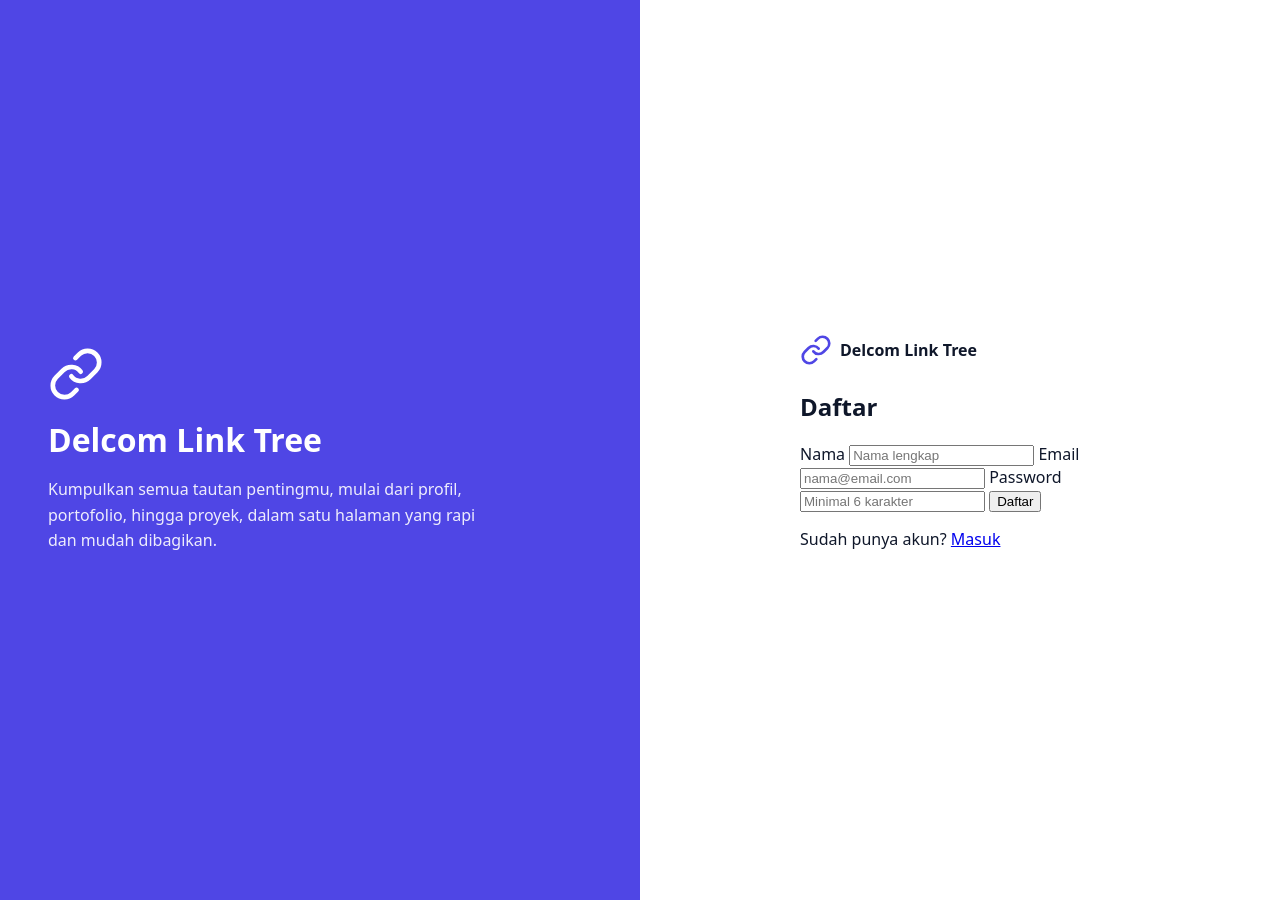
Test: RegisterPage › menolak nama kosong
This screenshot has width=1280, height=900.
Type "a@b.co" into the field labelled "Email".
click(892, 478); type("a@b.co")  # box 800,468 -> 985,489
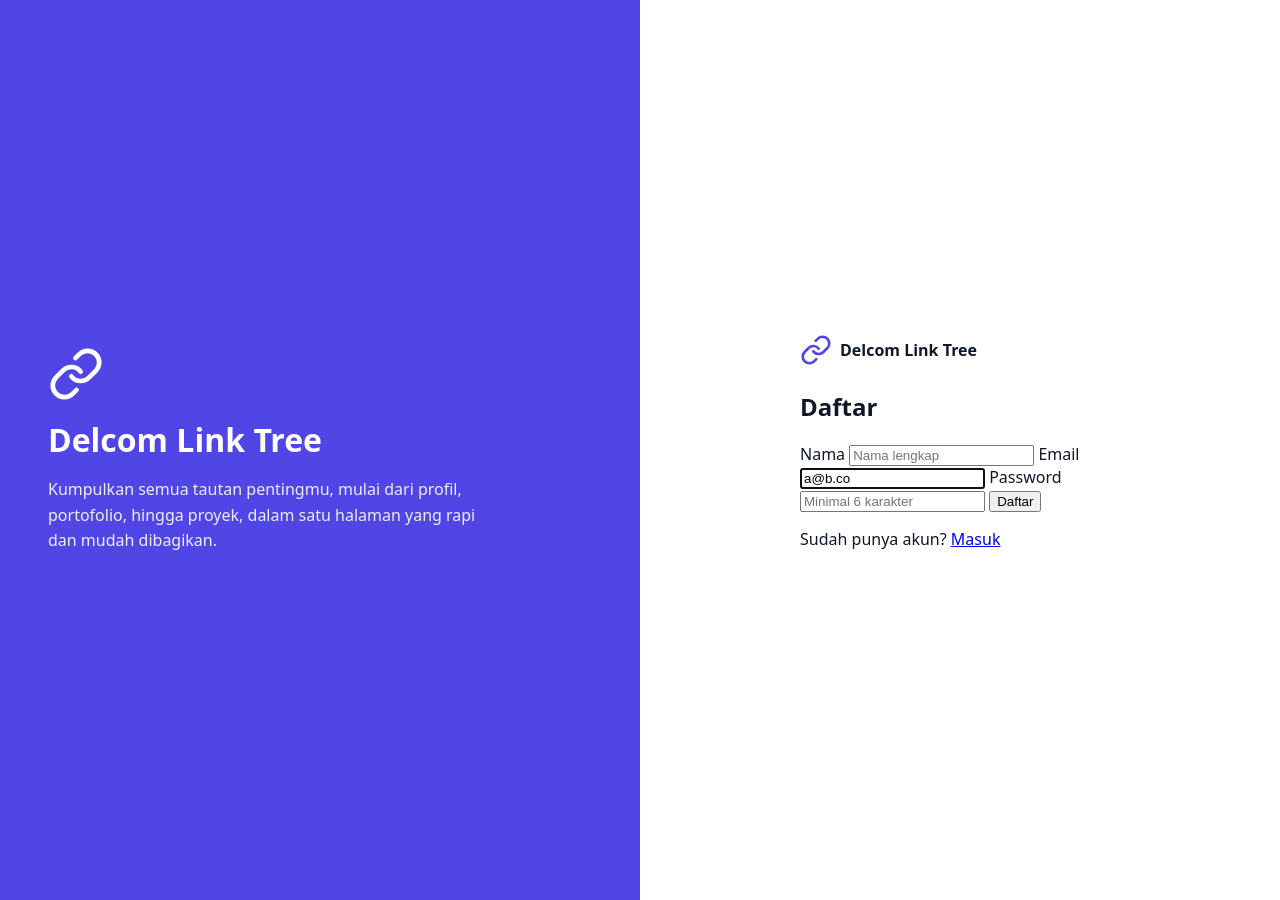
Type "rahasia" into the password field labelled "Password".
click(892, 502); type("rahasia")  # box 800,491 -> 985,512
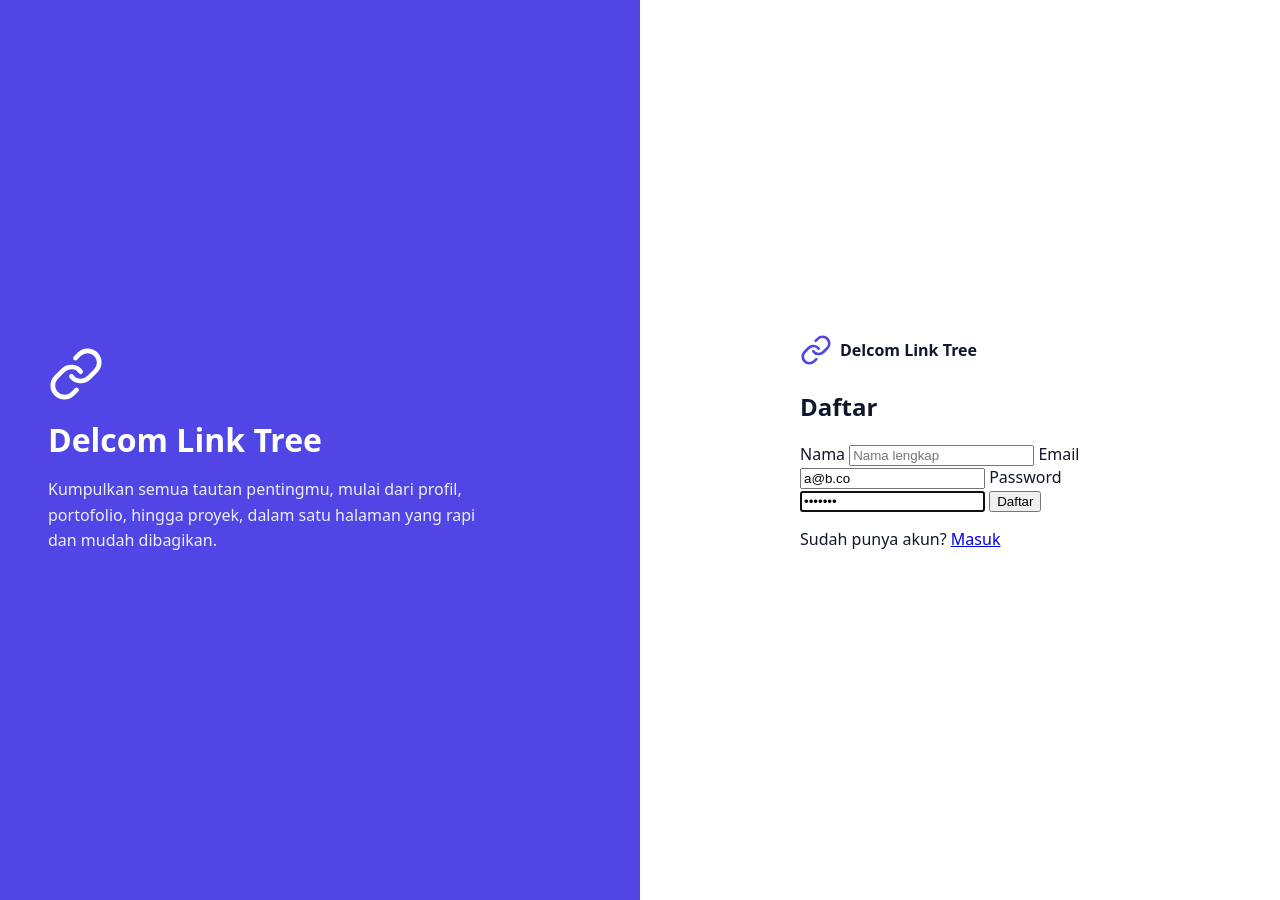
Click the button "Daftar".
click(1015, 502)  # box 989,491 -> 1042,512
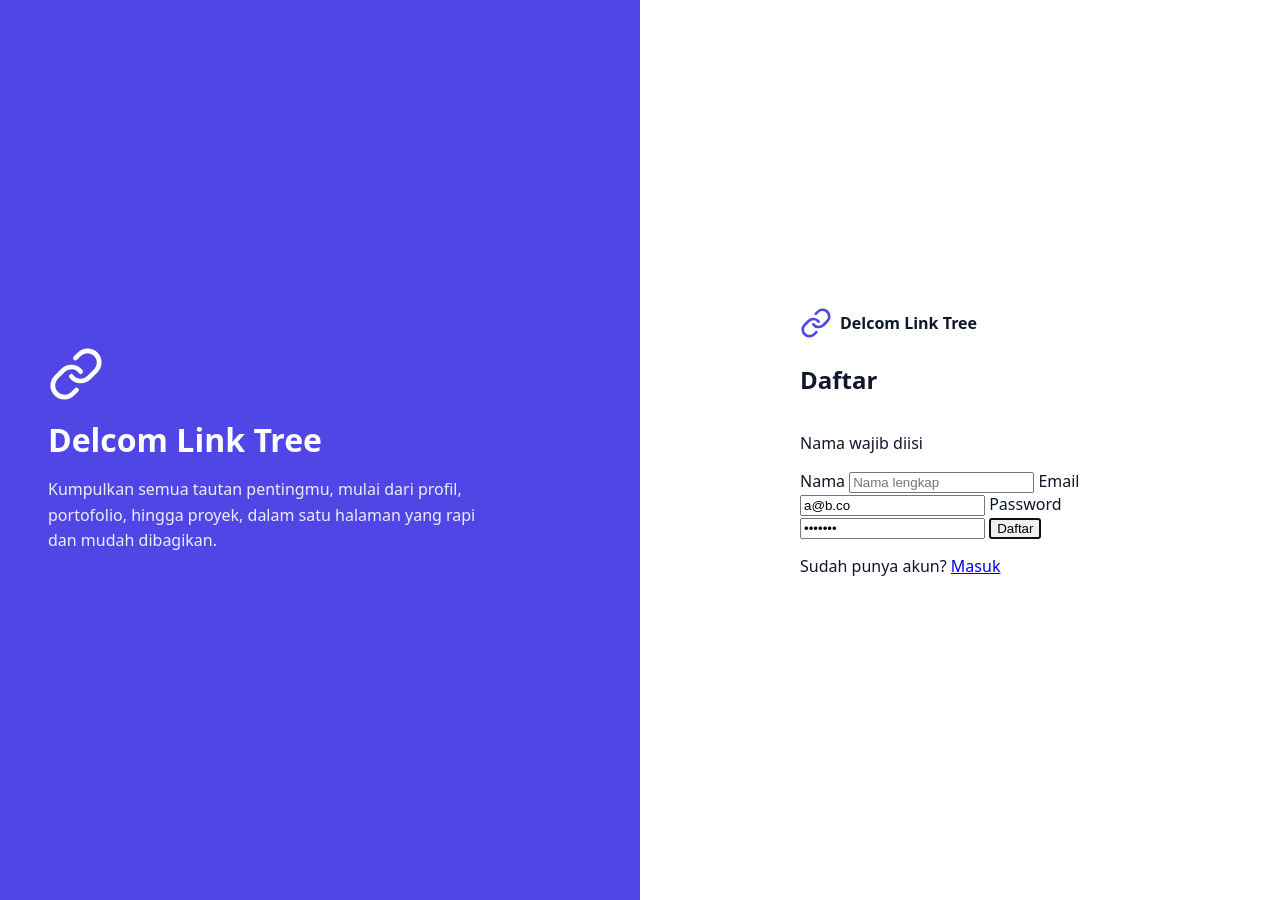
Expected: the text "Nama wajib diisi" is shown, 800,432 -> 923,454
